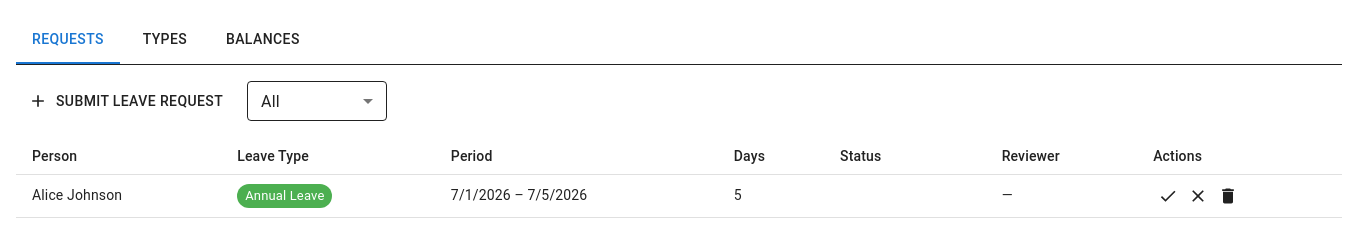
Test: LeaveManager › shows leave type data in Types tab
This screenshot has width=1359, height=235.
Click the tab "Types" at point(165, 40), box x1=120 y1=16 x2=210 y2=64
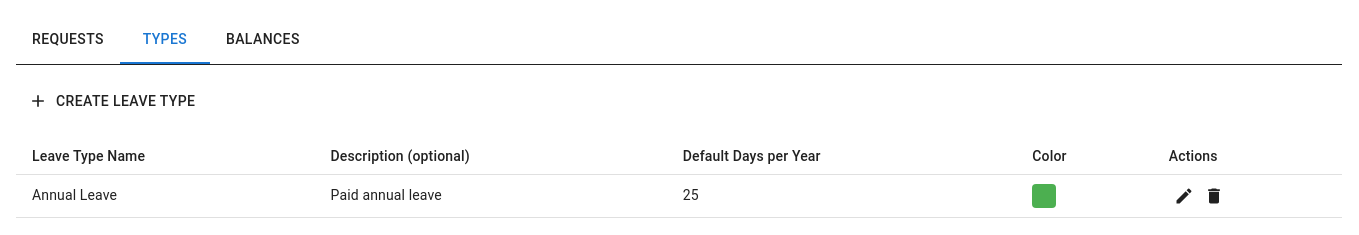
Expected: the text "Annual Leave" is shown, x1=16 y1=174 x2=314 y2=217
Now the text "25" is shown, box x1=667 y1=174 x2=1016 y2=217
